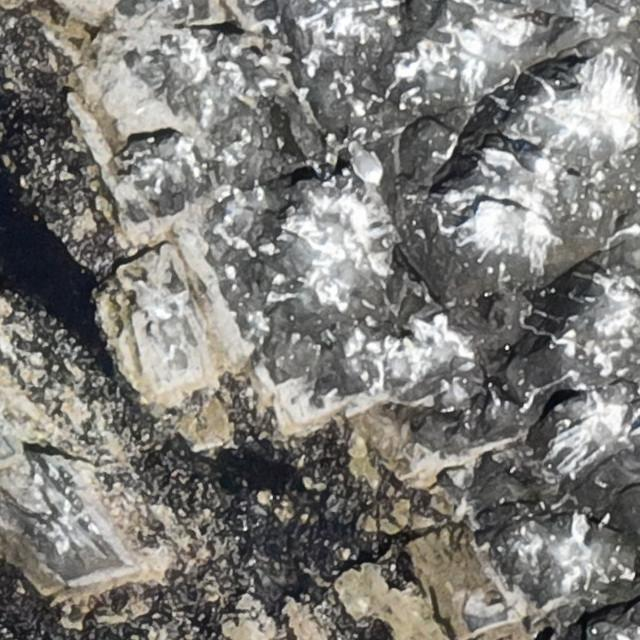umineko: (352, 137, 386, 187), (514, 139, 548, 176)
